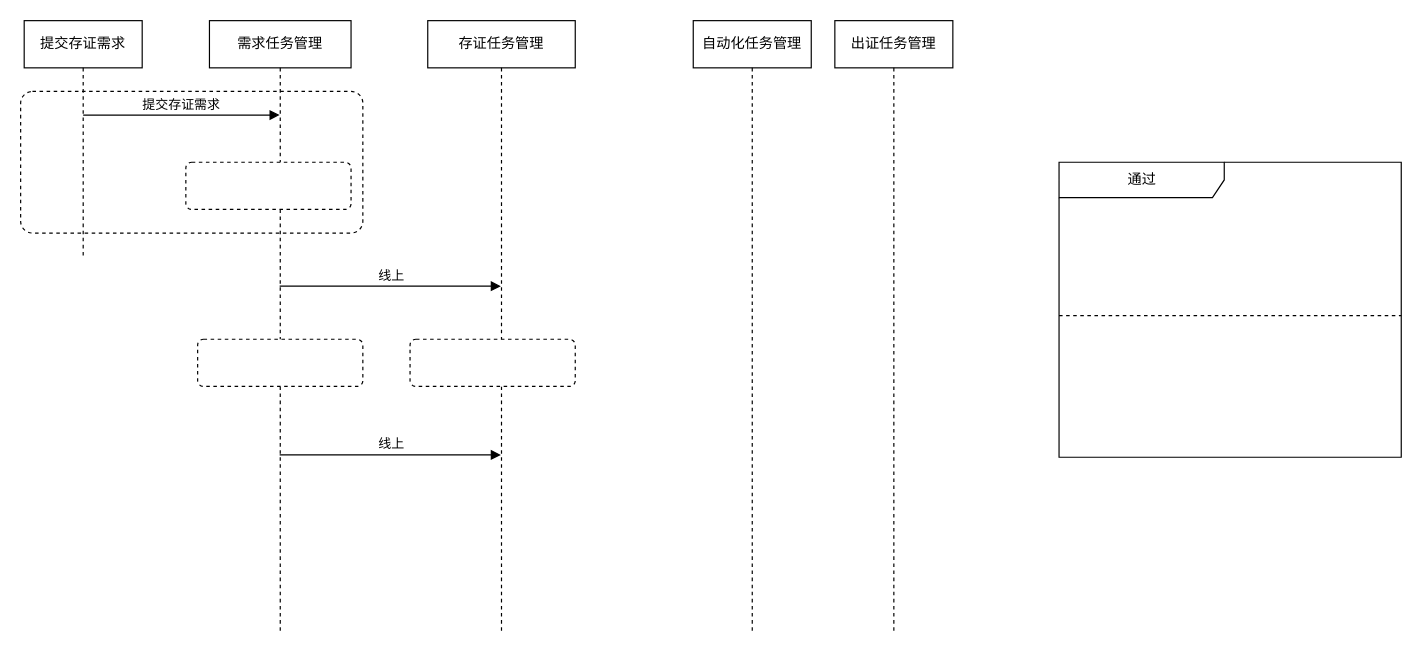
Some shapes in this 1422 by 655 pixel diagram are drawn without their labels. Here are the shapes that lost their labels. From the top down, the centre of each, then its label:
At point (268, 185): "任务状态：待审核".
At point (279, 362): "任务状态：已通过 存证状态：待处理".
At point (492, 362): "任务状态：待处理".
